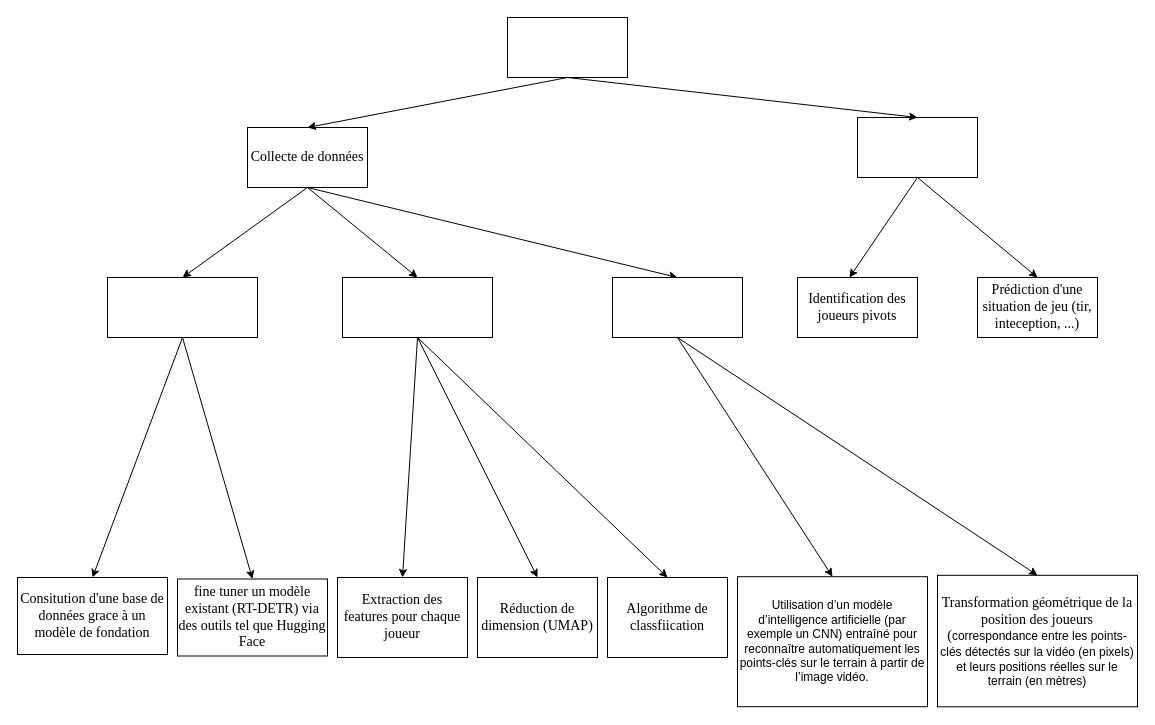
Some shapes in this 1155 by 725 pixel diagram are drawn without their labels. Here are the shapes that lost their labels. From the top down, the centre of each, then its label:
At point (567, 47): "Système TactIAque".
At point (917, 147): "Algorithme de traitement de données".
At point (182, 307): "Détection des joueurs et des équipes".
At point (417, 307): "Tracking des joueurs et attribution à une équipe".
At point (677, 307): "Localisation des jouerus sur le terrain".
